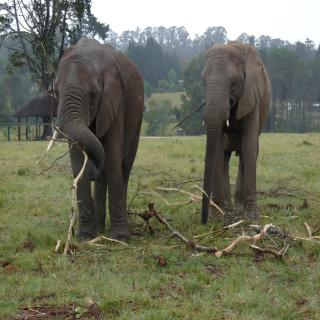Elephant: (44, 37, 150, 250), (194, 37, 274, 232)
